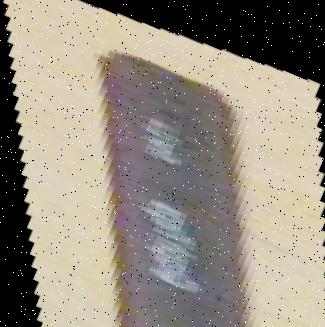black: (1, 0, 325, 327)
